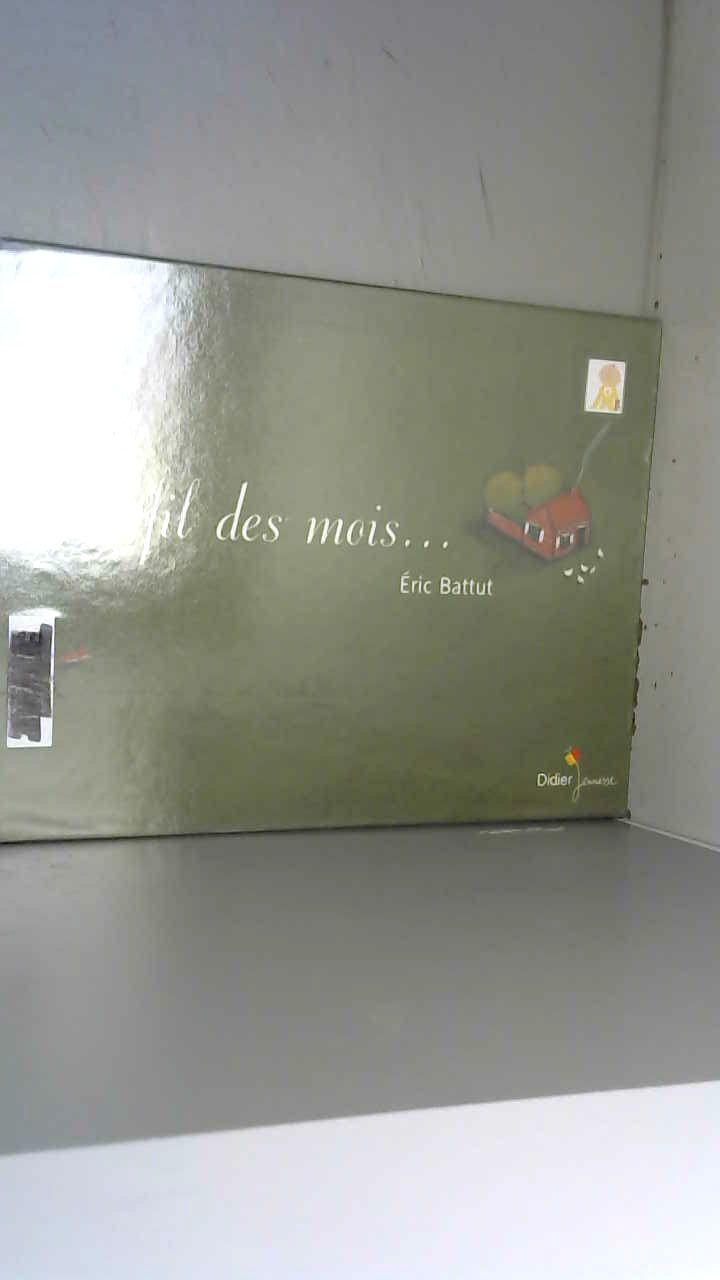book: (2, 209, 682, 886)
